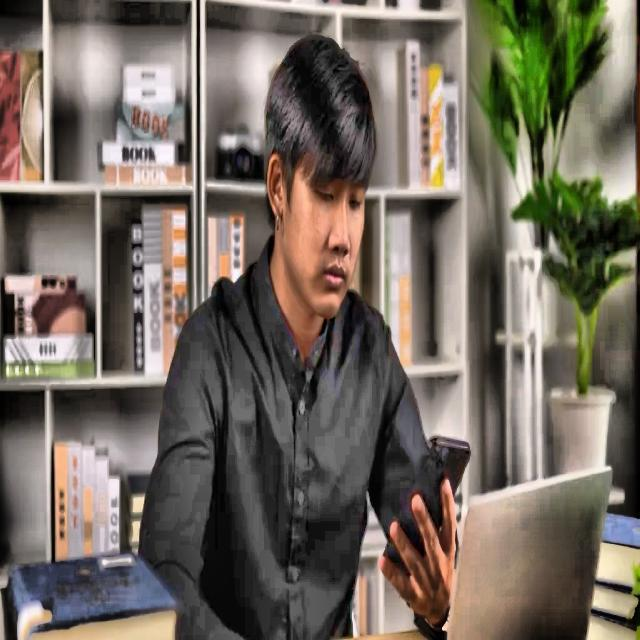Phone: (382, 434, 470, 586)
